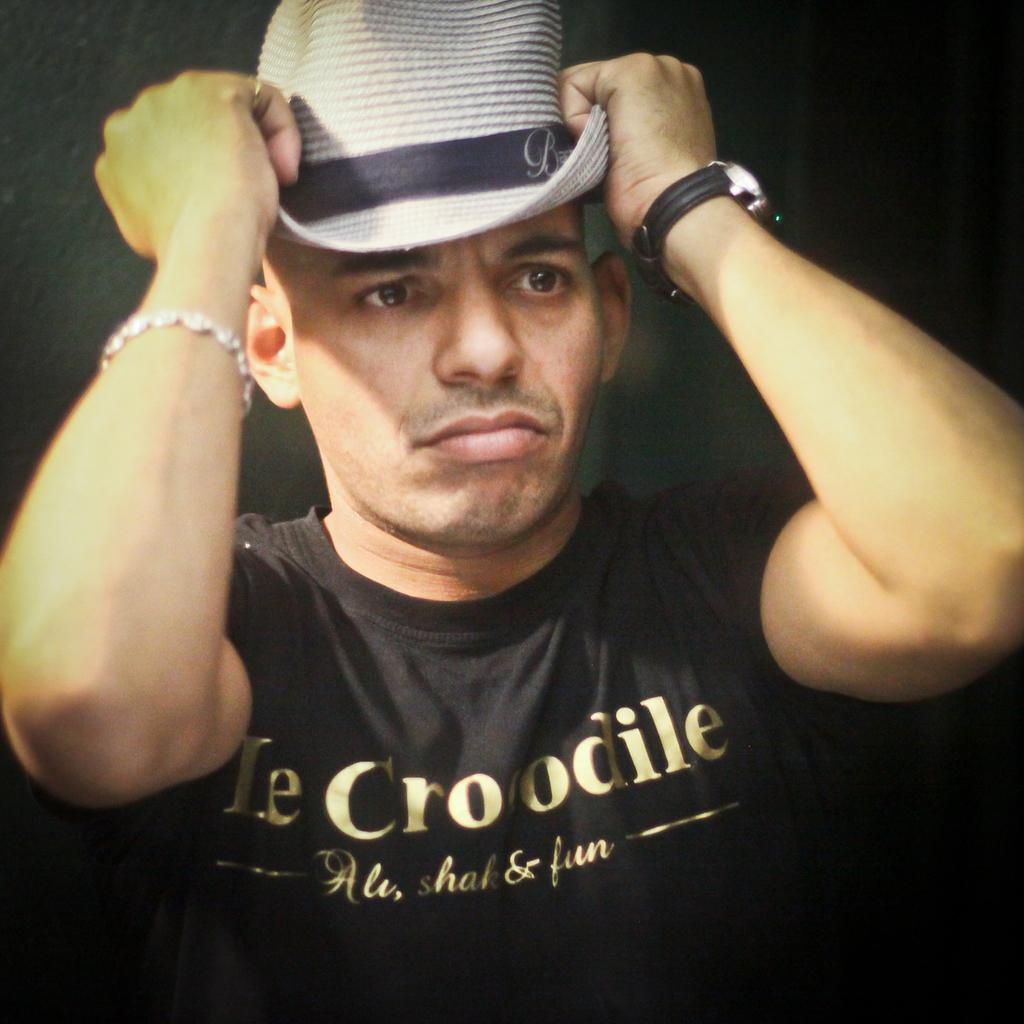Hat: (252, 0, 614, 258)
